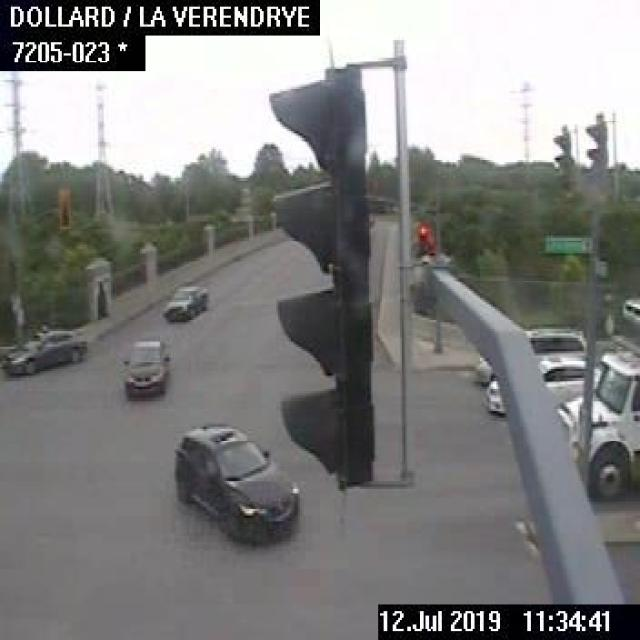vehicle: (169, 422, 298, 542), (557, 352, 638, 500), (474, 324, 586, 388), (484, 359, 584, 412), (2, 324, 85, 374), (124, 338, 167, 393), (162, 282, 205, 318)
